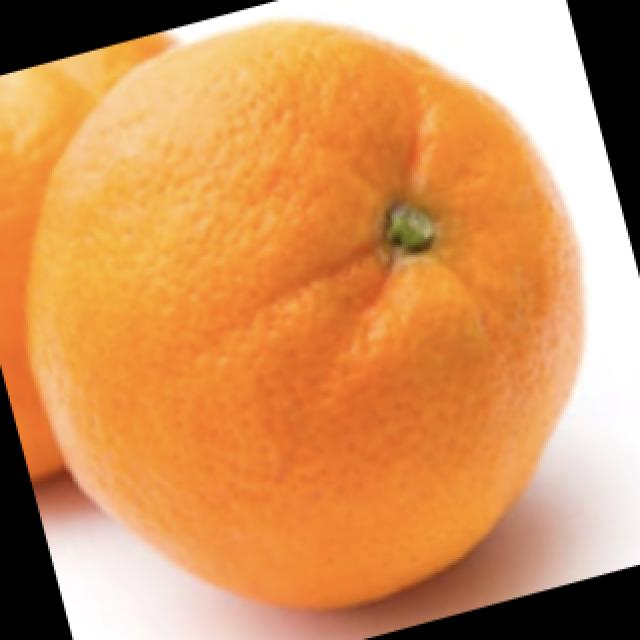matang: (33, 16, 584, 612), (0, 37, 174, 494)
